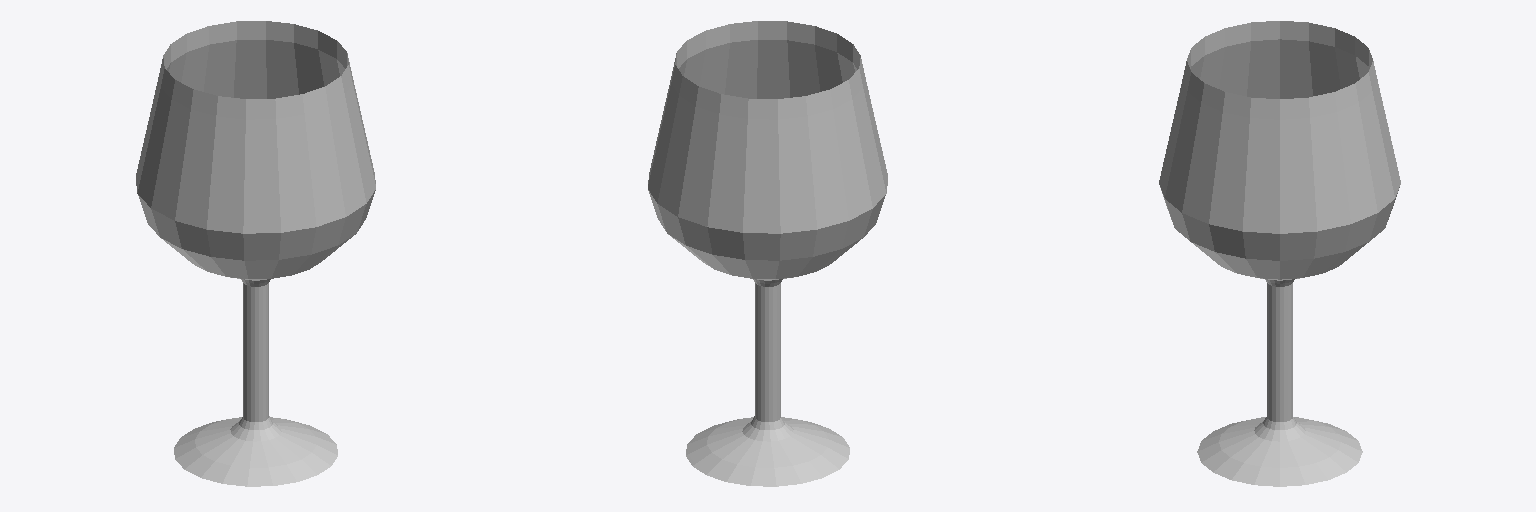
The model's file is WineGlass.obj.
3 renders of one model, left to right at view 1: azimuth 30°, elevation 25°; view 2: azimuth 150°, elevation 25°; view 3: azimuth 270°, elevation 25°, orthographic.
Size of the model in its own units: 0.0851 by 0.1519 by 0.0851.